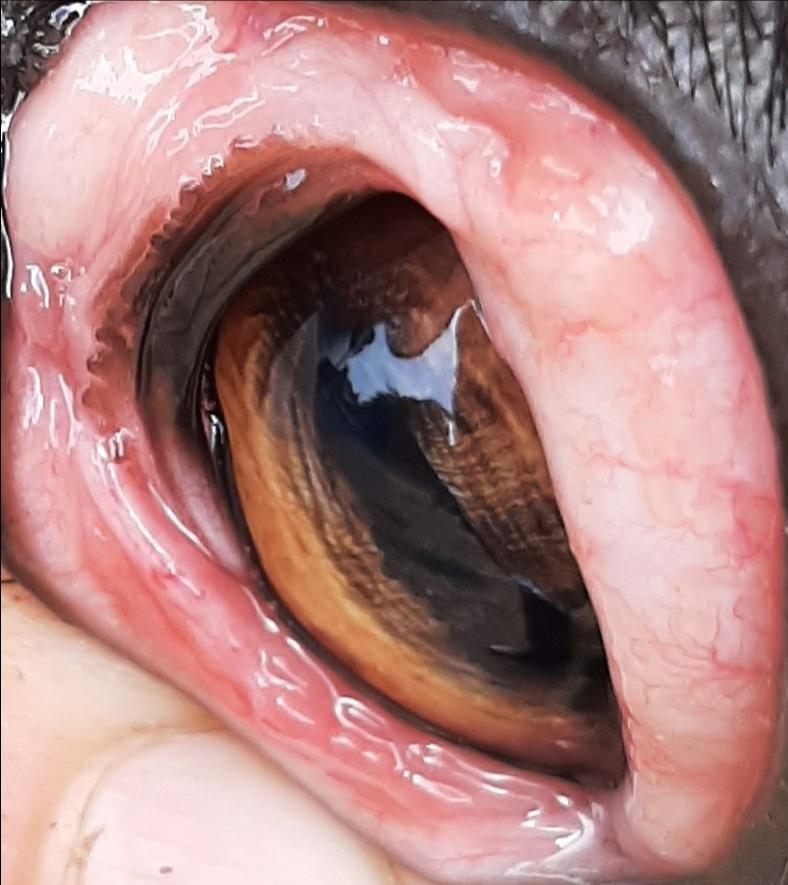eye_membrane: (3, 0, 781, 885)
